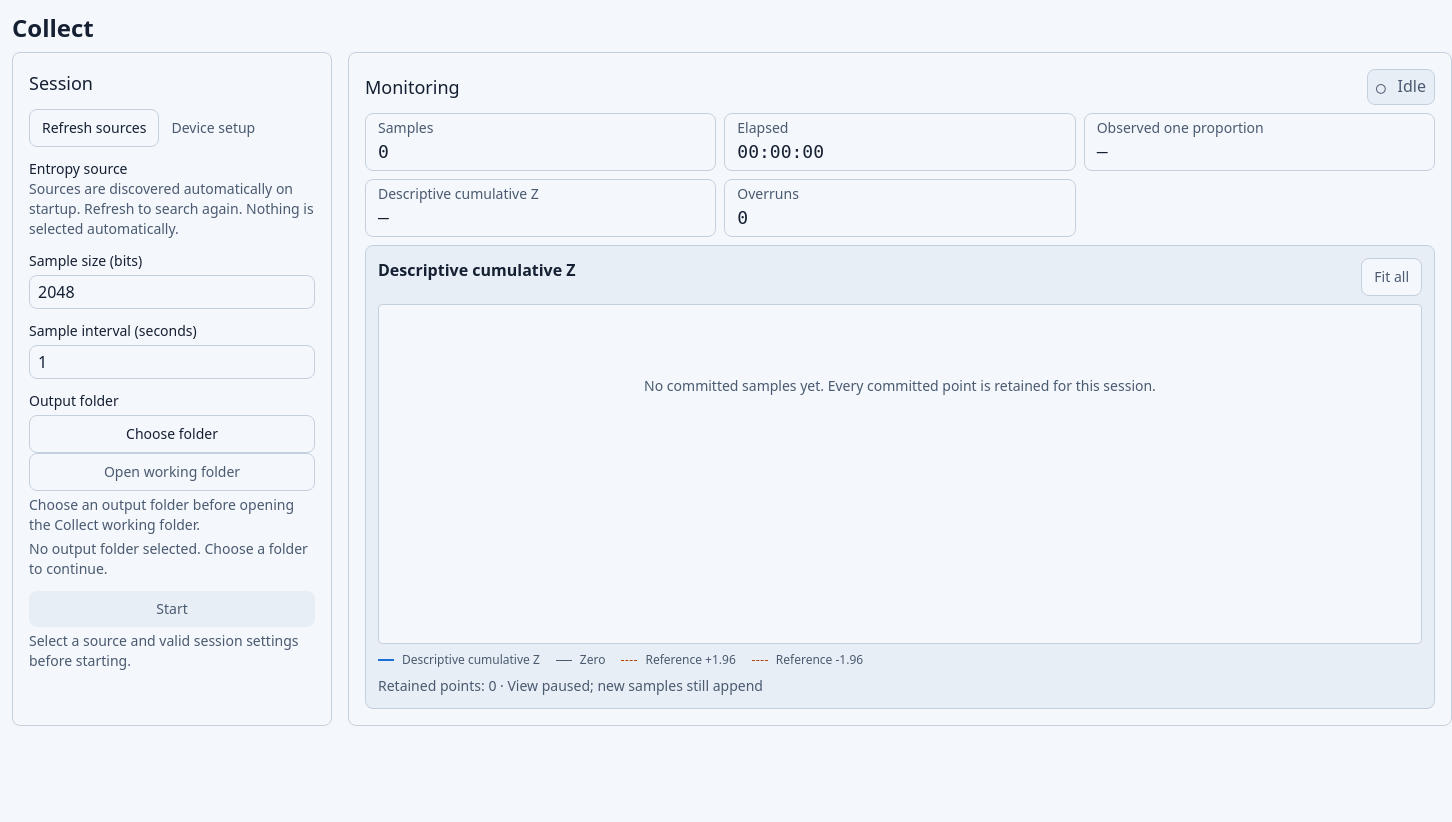
Scenario: SourceDiscovery › recovers from a rejected native refresh without staying discovering
Click the button "Refresh sources".
click(94, 128)  # box x1=29 y1=109 x2=160 y2=147
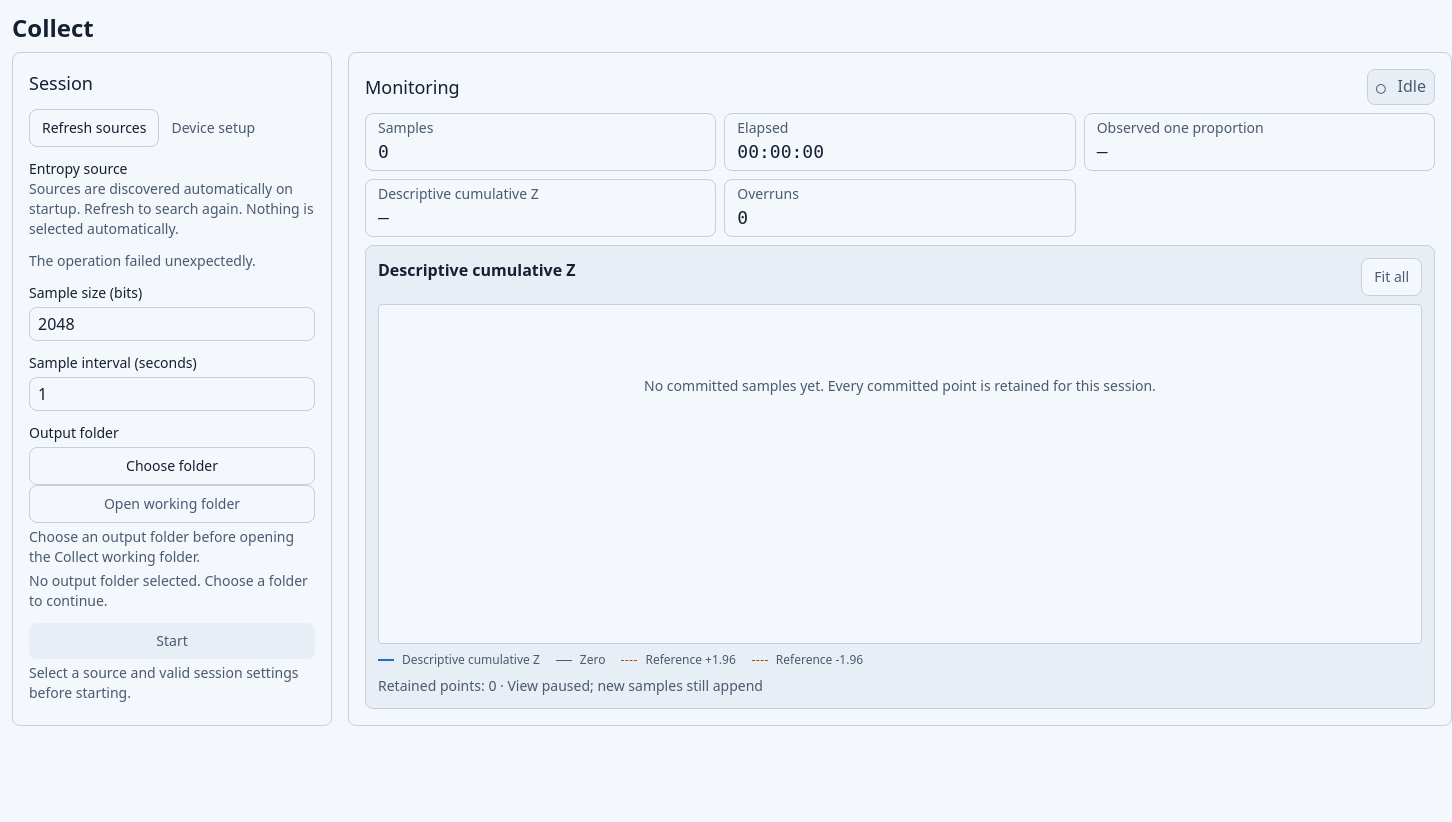
Check: the text "The operation failed unexpectedly." is shown, box x1=29 y1=251 x2=256 y2=270
